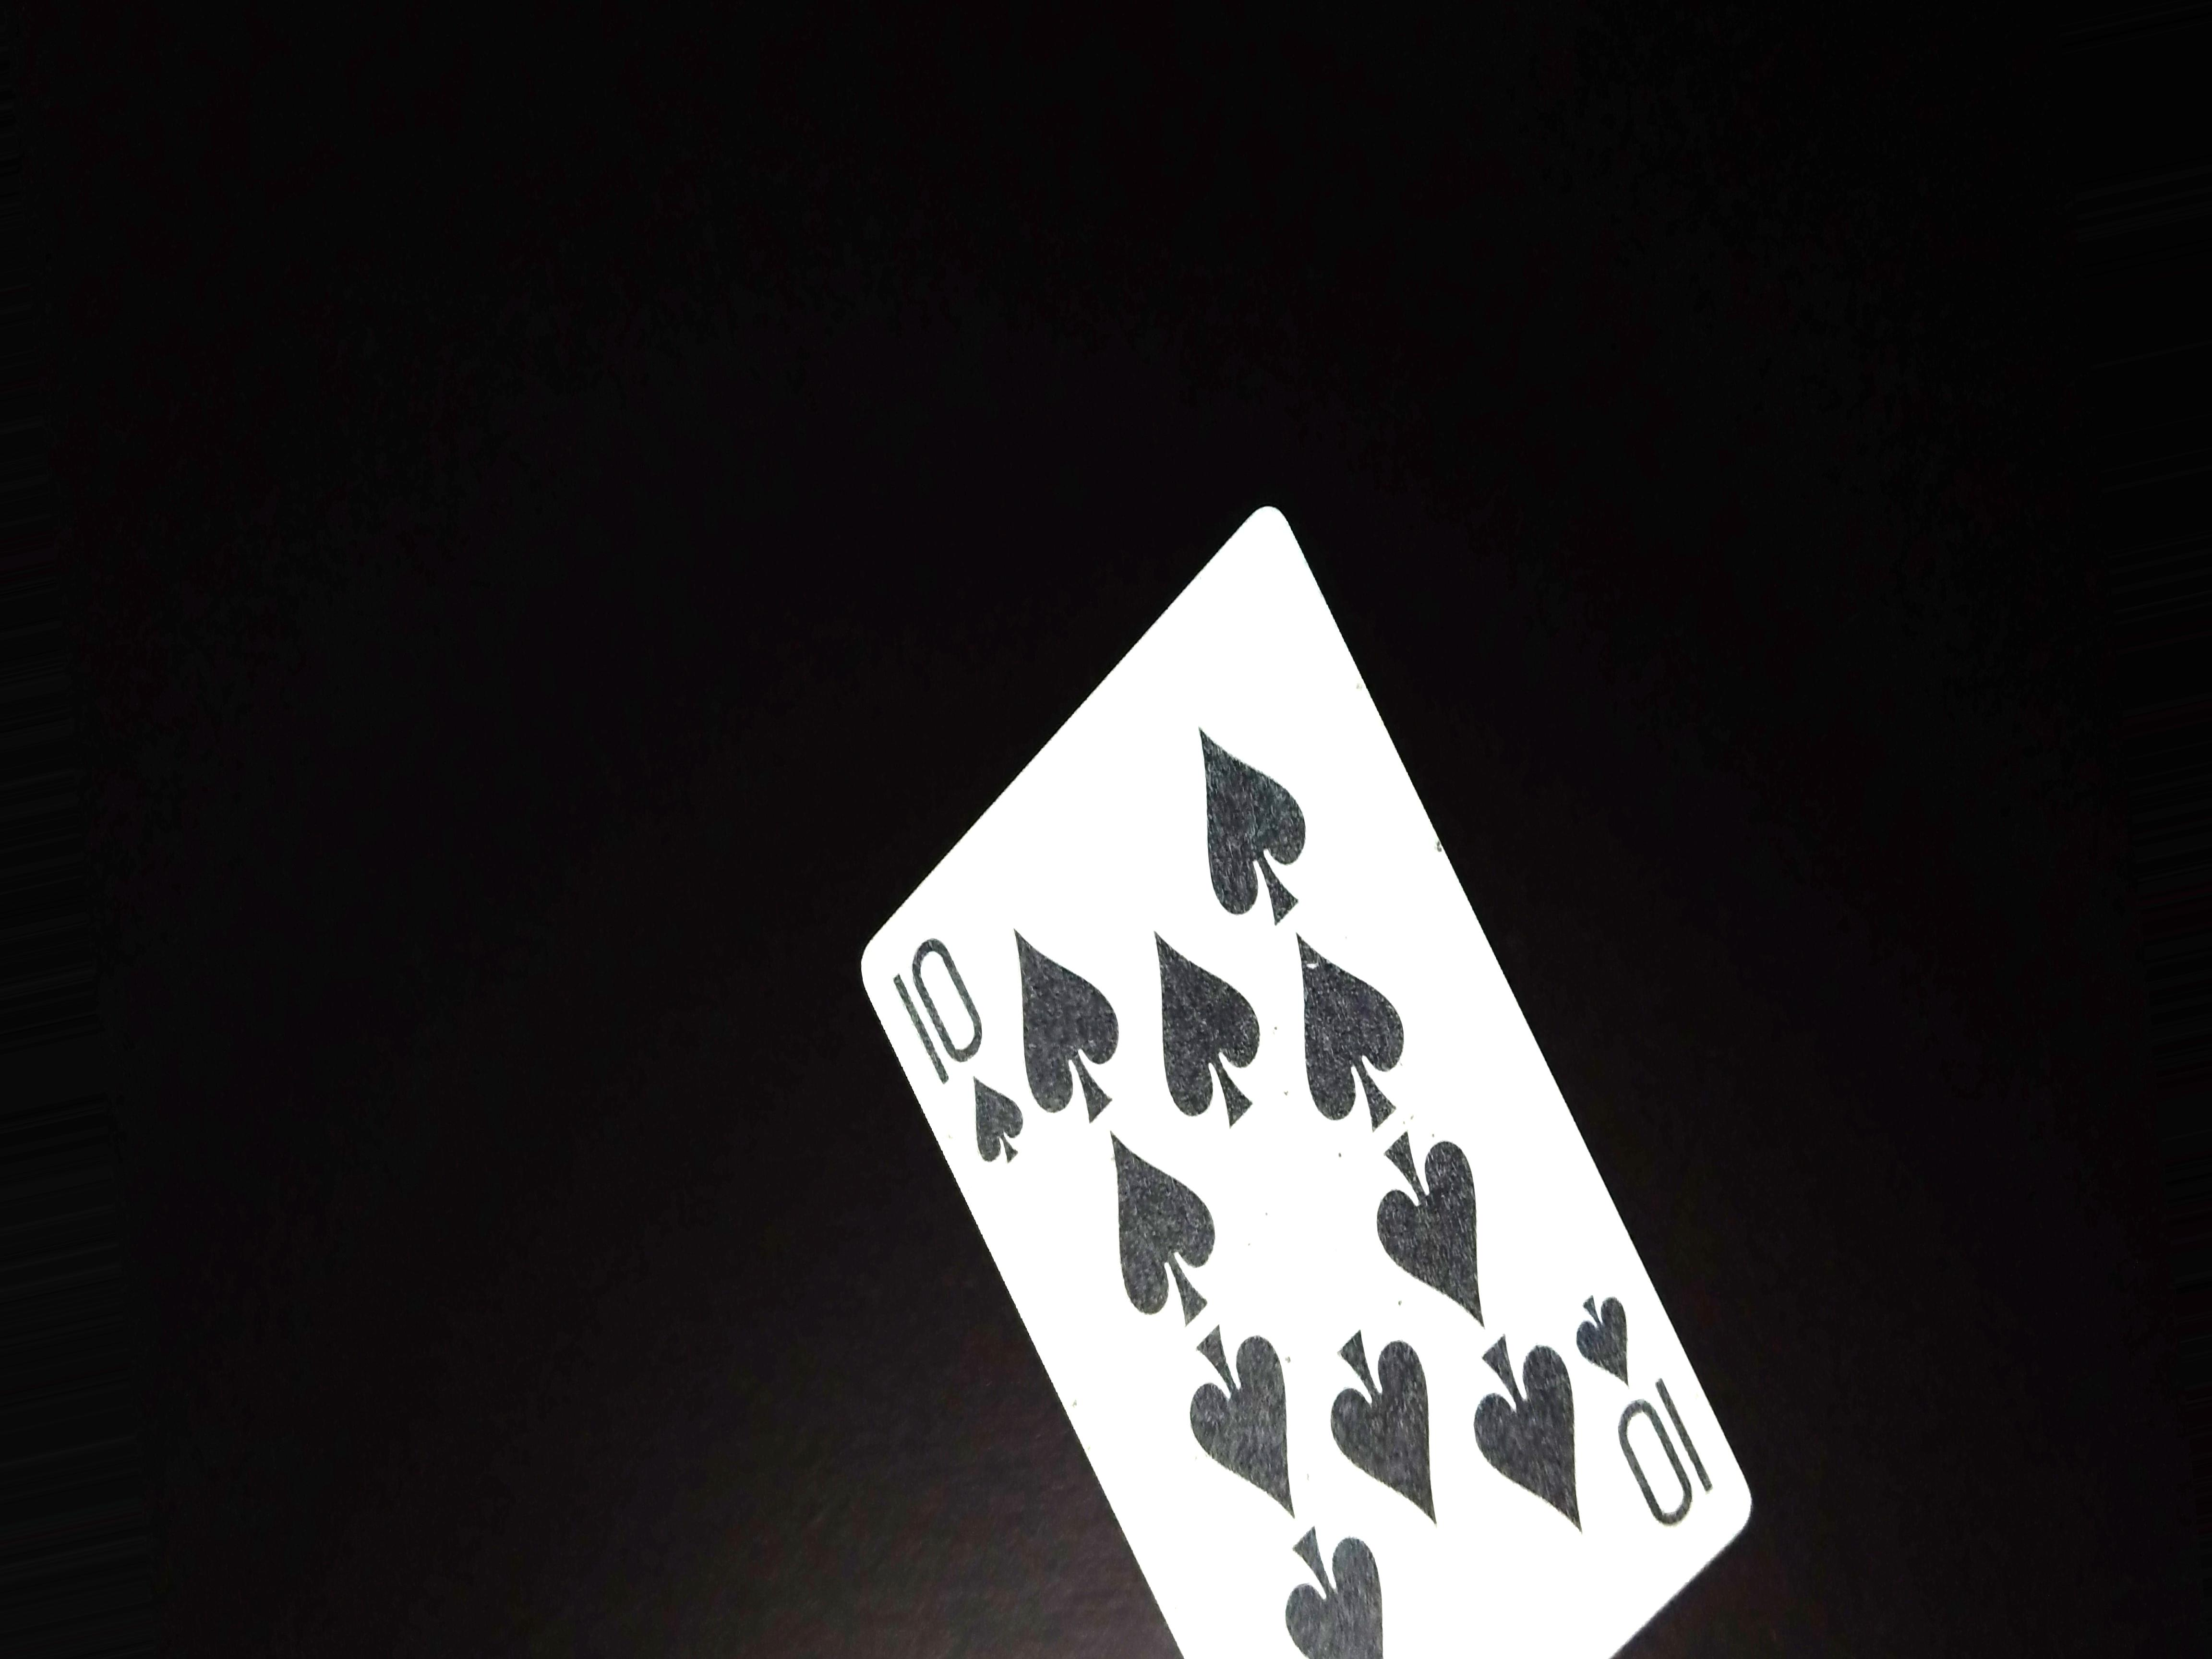10S: (885, 932, 1035, 1159)
